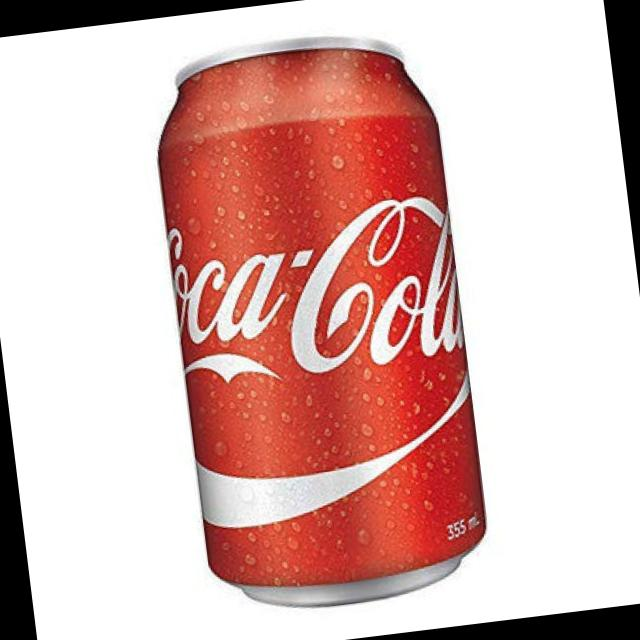cocacola: (129, 14, 513, 628)
